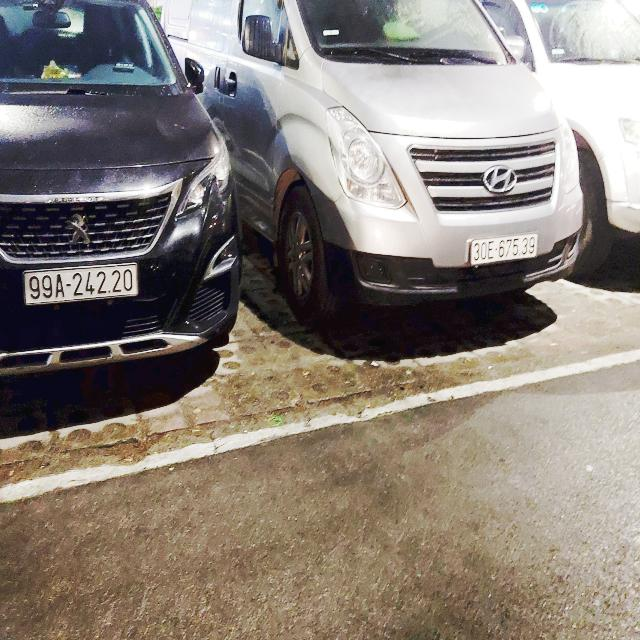license_plate: (23, 262, 141, 307), (470, 233, 541, 266)
